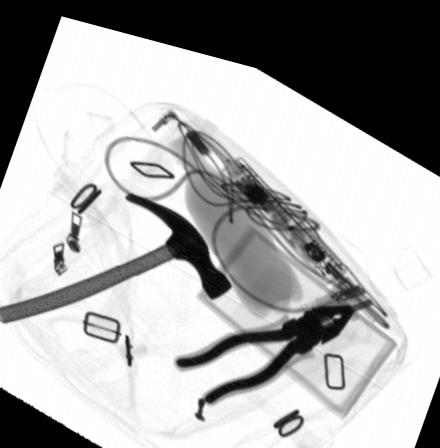Hammer: (0, 186, 232, 324)
Pliers: (172, 287, 356, 397)
